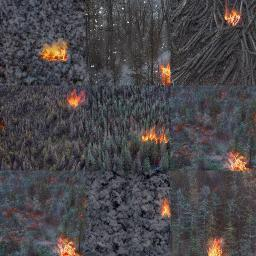Small fire: (46, 230, 86, 256), (219, 147, 253, 176), (37, 37, 73, 63), (138, 121, 169, 147), (153, 61, 180, 89), (61, 86, 91, 110), (218, 4, 246, 28), (155, 195, 178, 223), (202, 234, 228, 256)
